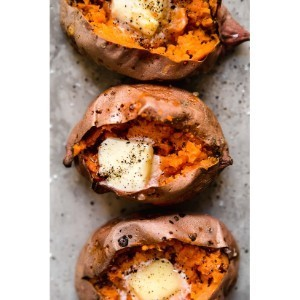sweet potato_brain food: (70, 95, 227, 206), (78, 219, 236, 298), (70, 9, 231, 80)
